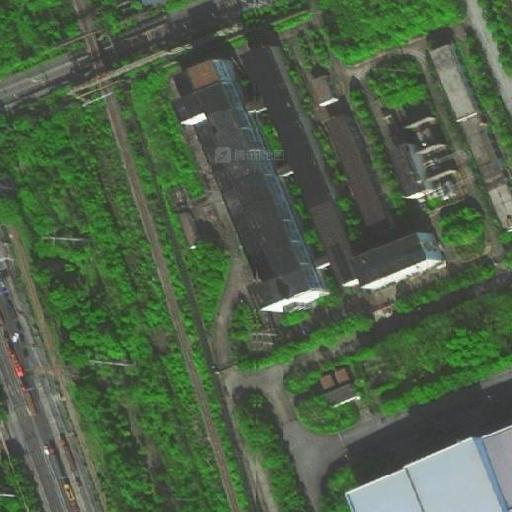building: (194, 111, 315, 284), (322, 112, 391, 230), (348, 234, 441, 289), (428, 43, 482, 127), (246, 267, 333, 314), (167, 80, 249, 127), (383, 141, 441, 203), (458, 118, 508, 189), (324, 380, 361, 410), (178, 207, 204, 249), (310, 74, 336, 109), (317, 373, 336, 392), (333, 367, 351, 385)
